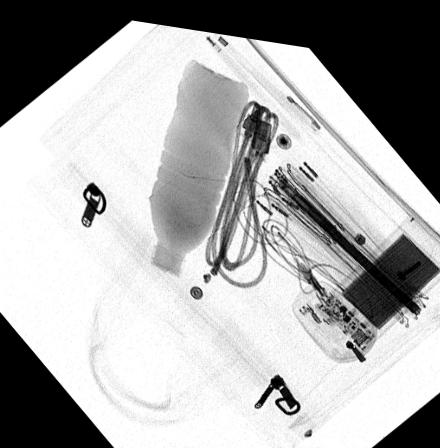Powerbank: (311, 200, 440, 342)
